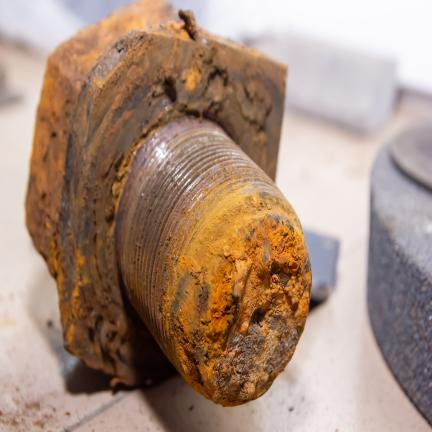karat: (26, 0, 312, 406)
